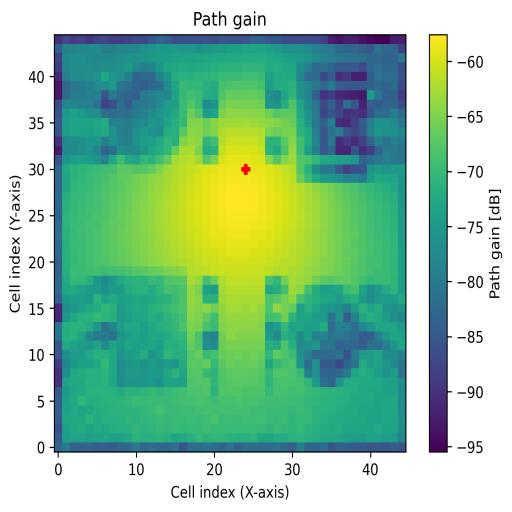Concrete: (297, 62, 376, 183)
Glass: (117, 63, 187, 166)
Metal: (288, 285, 375, 393)
Wood: (118, 275, 187, 387)
